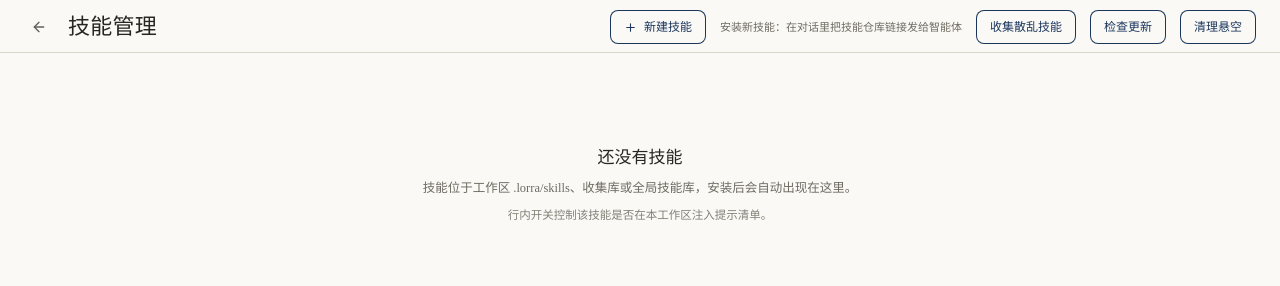
Test case: Requirement: 清理悬空 › Given 清理失败 When 点击 Then 页内动作错误横幅展示错误
Click the button with test id "skills-clean-dangling".
click(1218, 27)  # box [1180,10,1256,44]
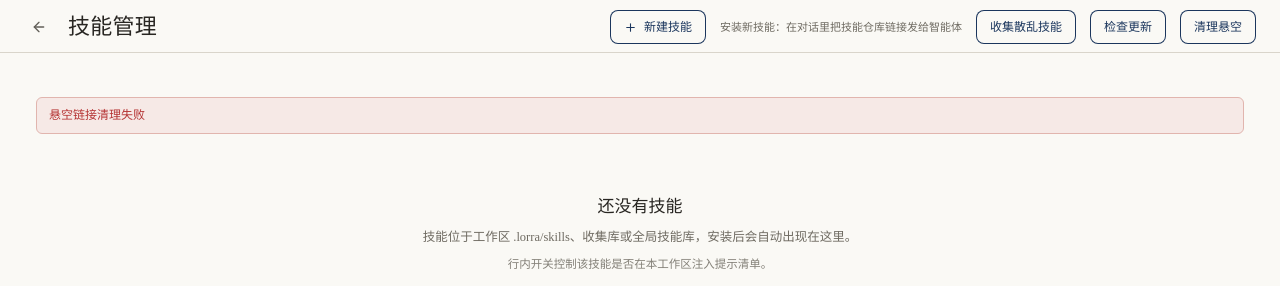
Expected: the message with test id "skills-action-error" reads "悬空链接清理失败", [49,108,145,122]
